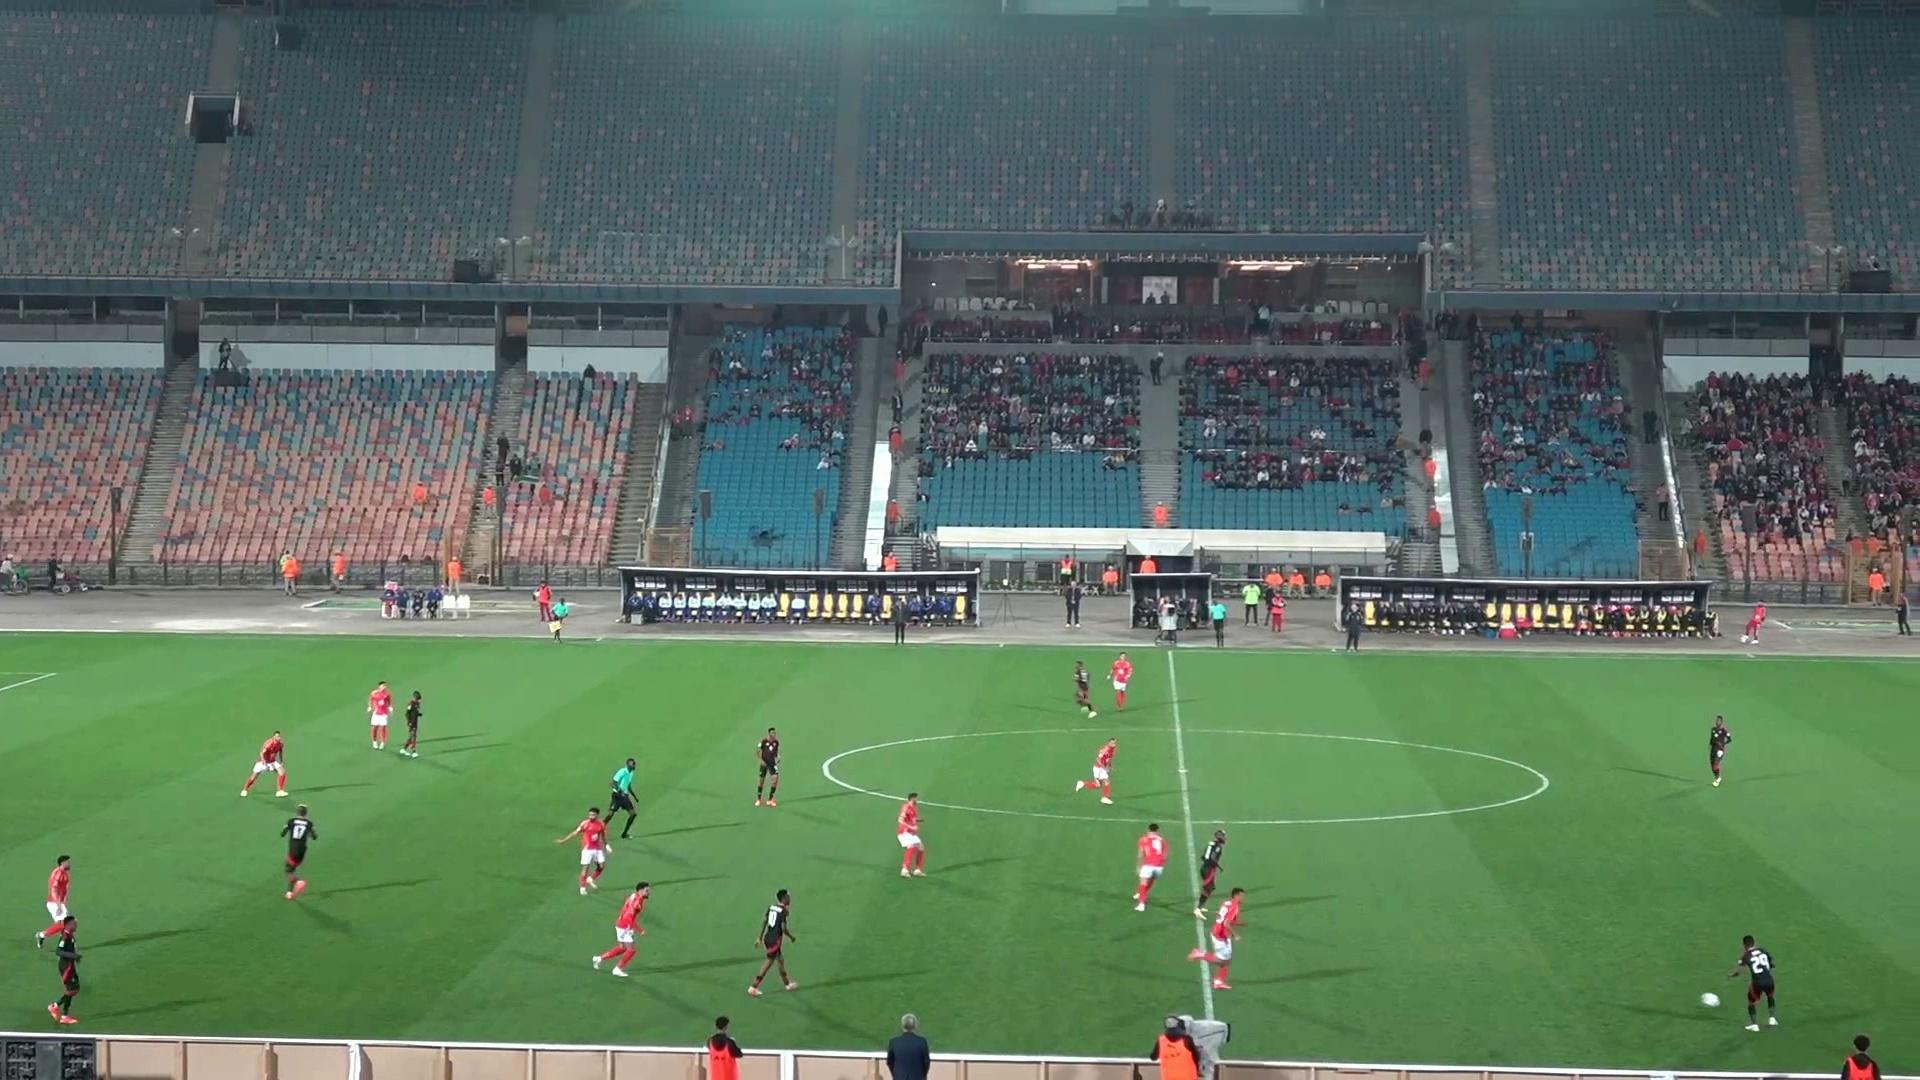Ball: (1698, 992, 1720, 1011)
Refree: (603, 760, 637, 837), (535, 583, 568, 640), (1207, 595, 1226, 647)
Team1: (1188, 887, 1244, 989), (592, 882, 651, 976), (556, 808, 611, 894), (37, 855, 74, 945), (1134, 824, 1168, 911), (243, 732, 287, 796), (1075, 738, 1116, 803), (895, 793, 924, 876), (368, 682, 393, 750), (1109, 651, 1133, 711)
Team2: (746, 889, 796, 996), (1729, 934, 1778, 1031), (38, 915, 80, 1023), (281, 804, 316, 899), (1196, 829, 1226, 913), (753, 728, 781, 806), (1706, 715, 1731, 786), (400, 691, 422, 756), (1073, 661, 1096, 717)
